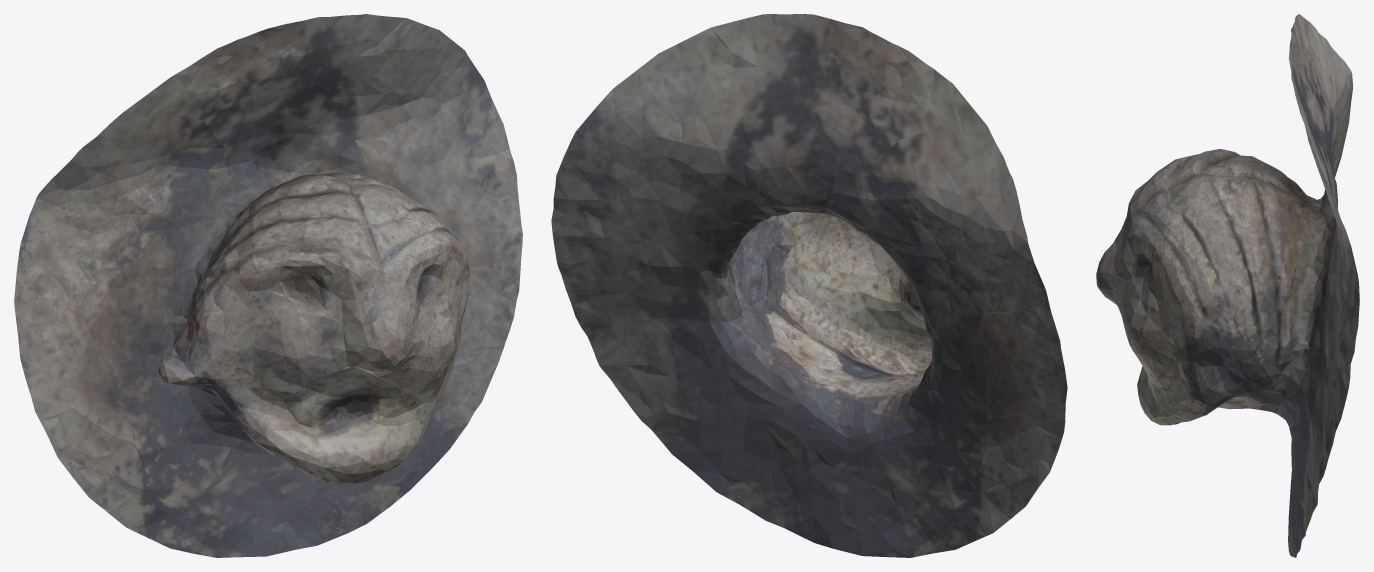
The picture shows the model from 3 angles, left to right: view 1: azimuth 30°, elevation 25°; view 2: azimuth 150°, elevation 25°; view 3: azimuth 270°, elevation 25°; orthographic projection. The views are drawn at different scales.
Parts seen in each view (by area): view 1: MA0514; view 2: MA0514; view 3: MA0514.
Boxes of the visible parts, left/top/right/bottom form: MA0514: left=14, top=14, right=522, bottom=557; MA0514: left=551, top=14, right=1067, bottom=557; MA0514: left=1096, top=14, right=1359, bottom=557.
Size of the model in its own units: 2 by 1.99 by 0.9685.
Materials: 1 (1 with a texture image).
